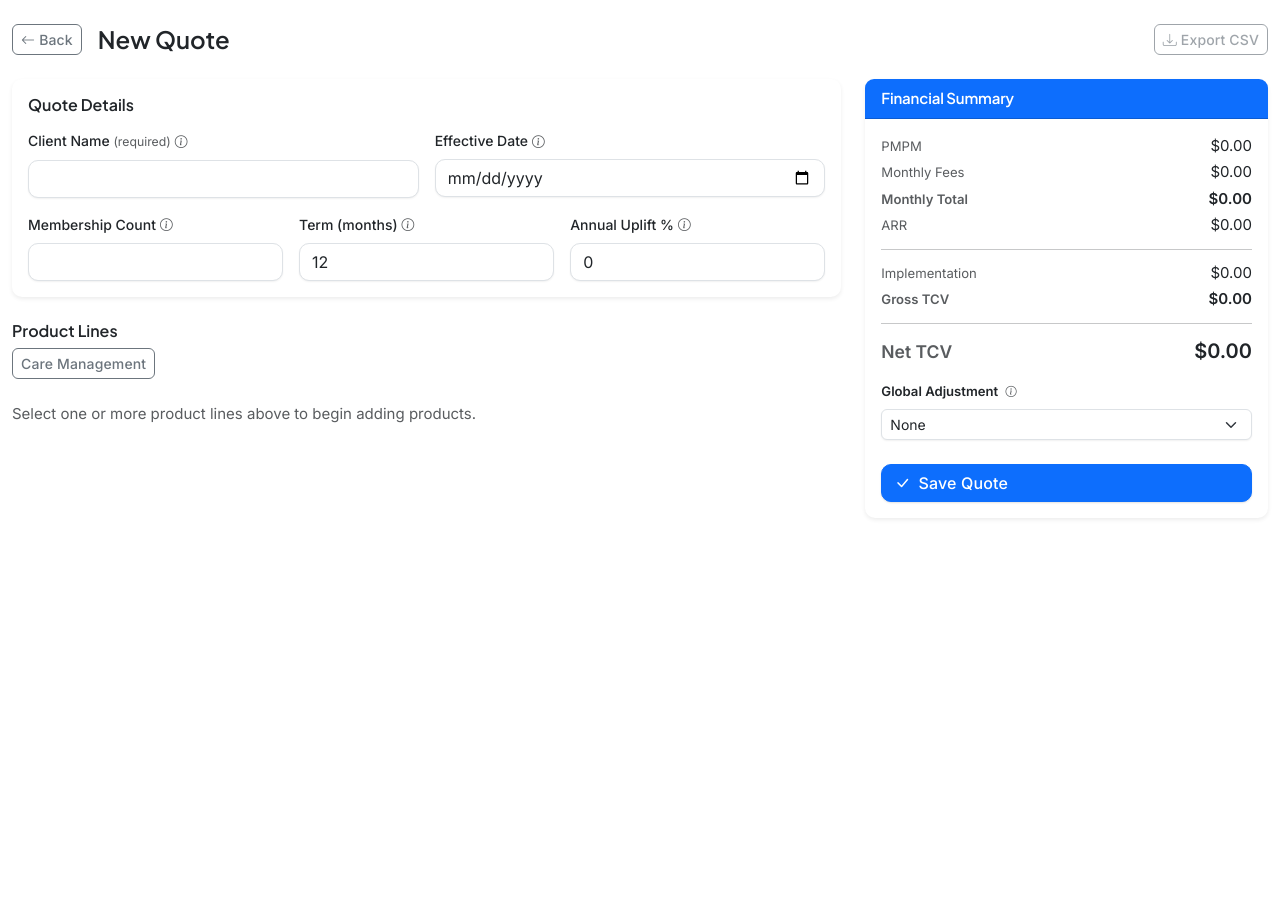
deselecting a product cascades removal of recommendations
This screenshot has width=1280, height=900.
What coordinates should you click on to do the following:
click the button with aria-label "add care management"
I would click on:
 (84, 363)
Its box is [12,348,155,379].
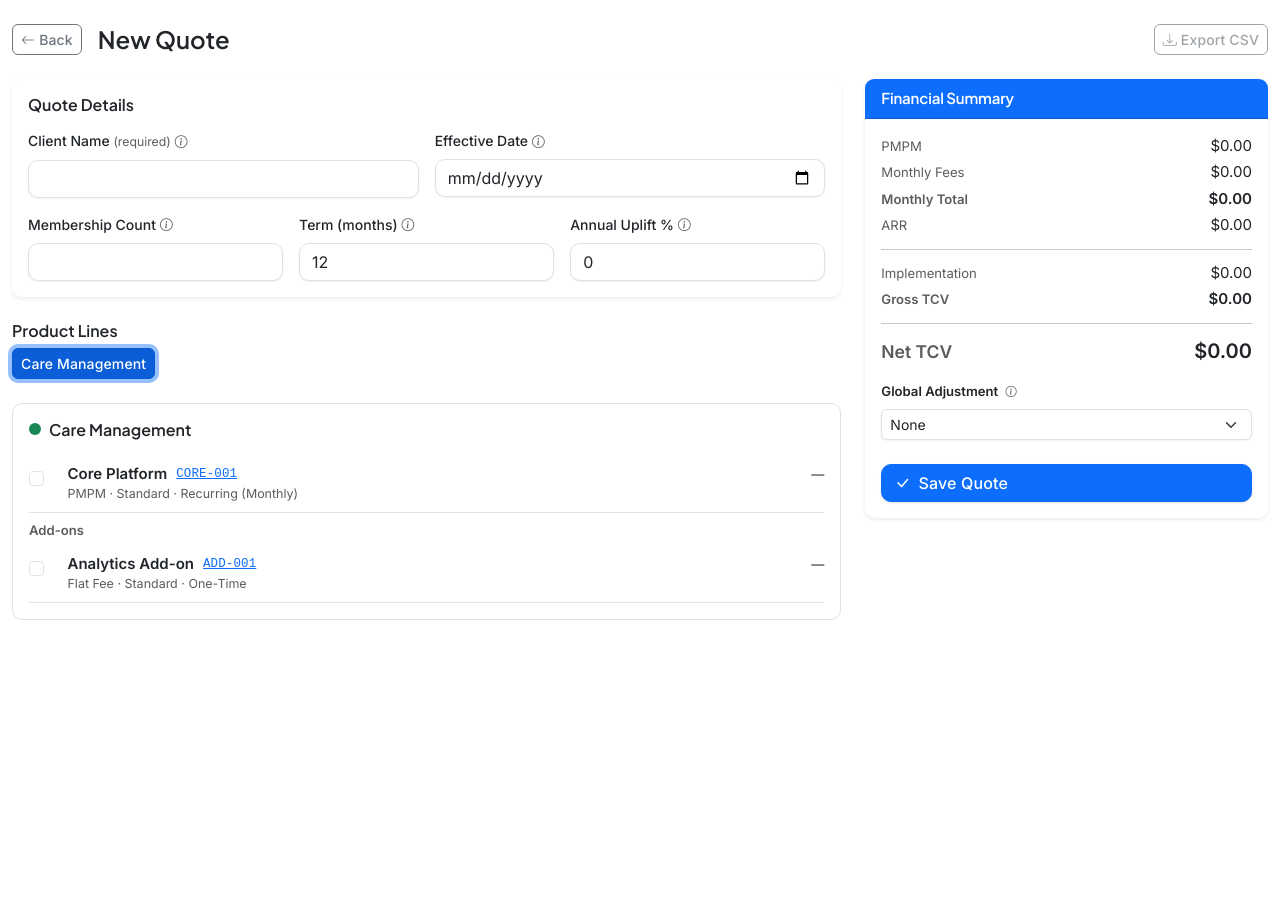
What coordinates should you click on to do the following:
click the checkbox named "select core platform"
I would click on:
 (36, 478)
Its box is [29,471,44,486].
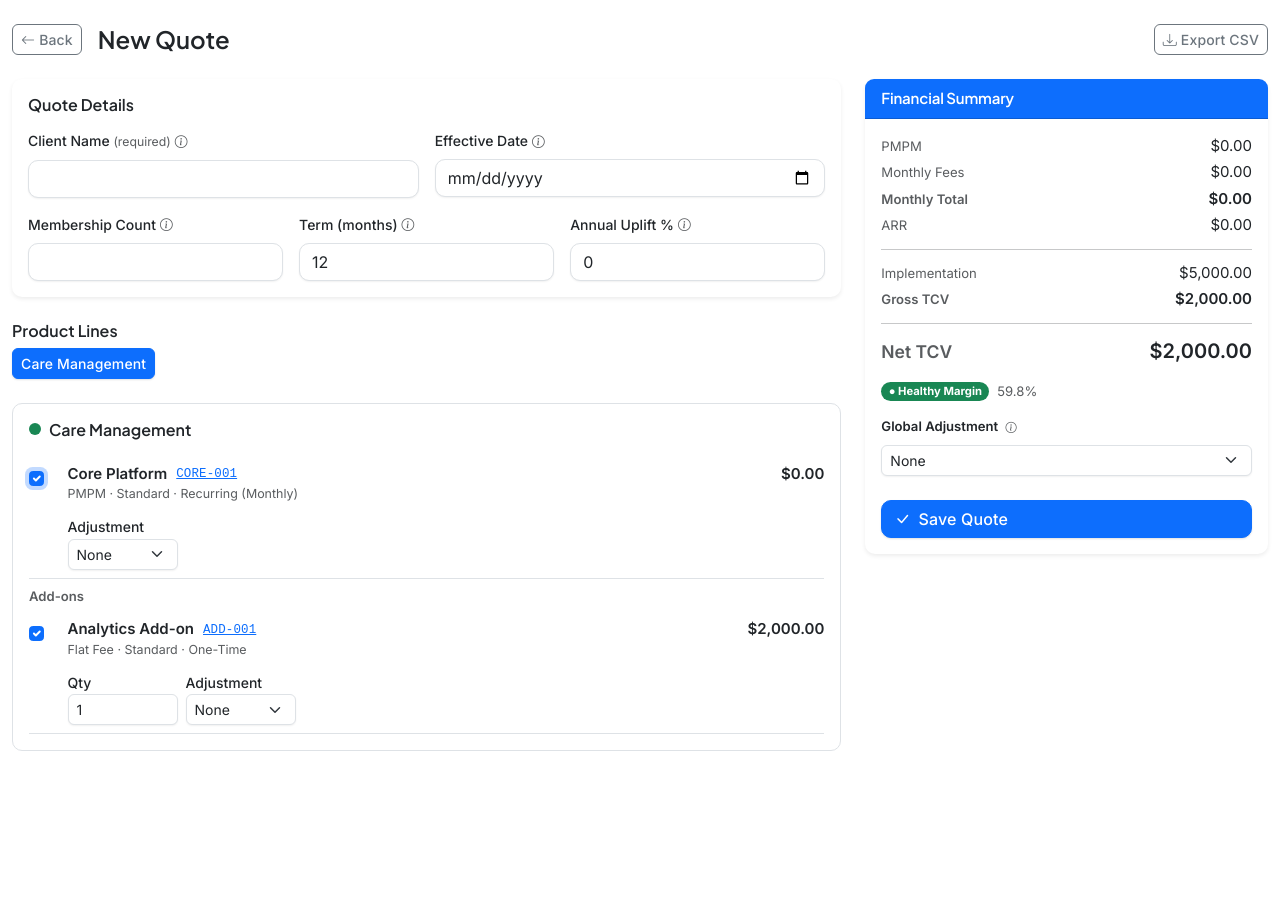
Expected: the checkbox named "select analytics add-on" is checked, [29,626,44,641]
What coordinates should you click on to do the following:
click the checkbox named "select core platform"
I would click on:
 (36, 478)
Its box is [29,471,44,486].
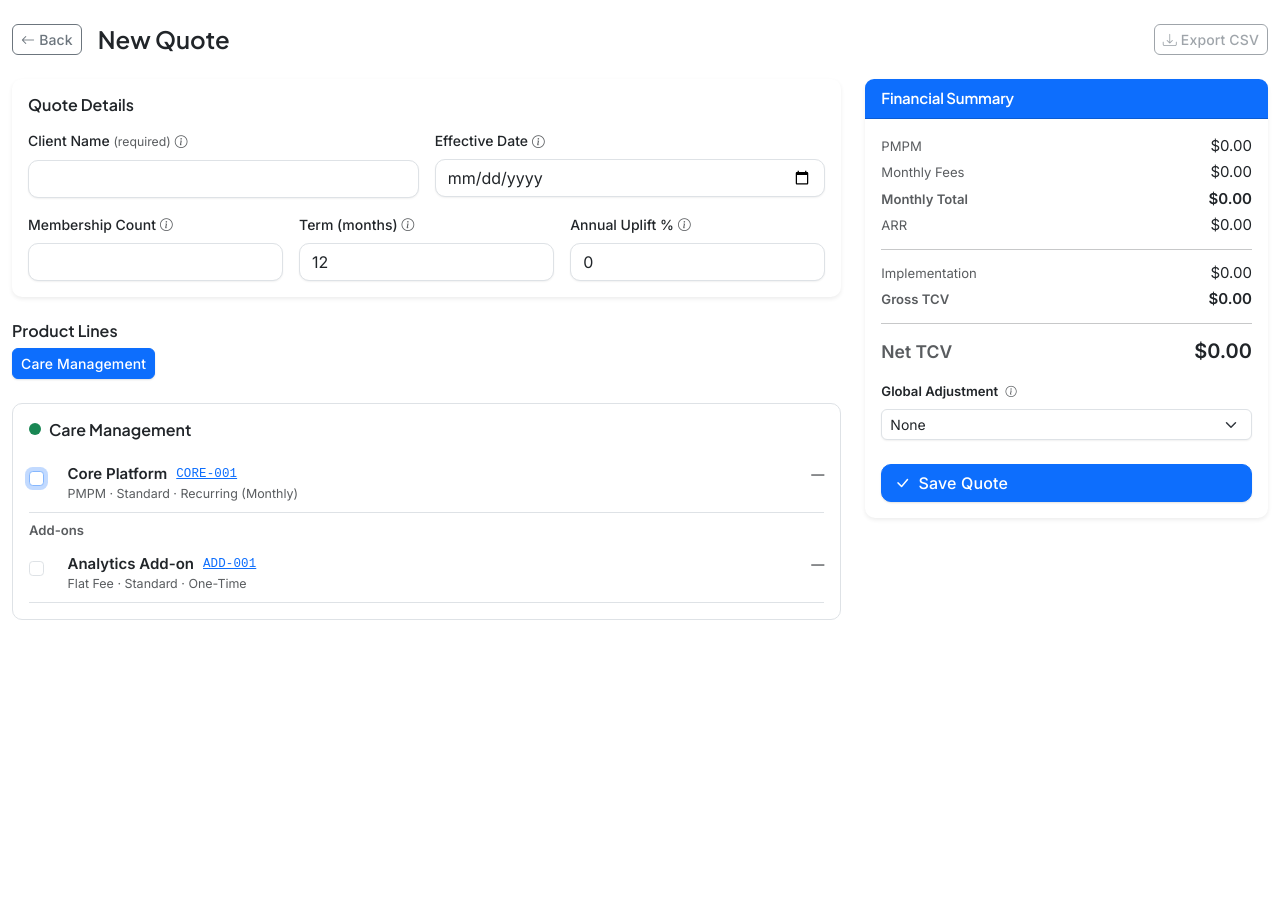
Expected: the checkbox named "select analytics add-on" is not checked, [29,561,44,576]
